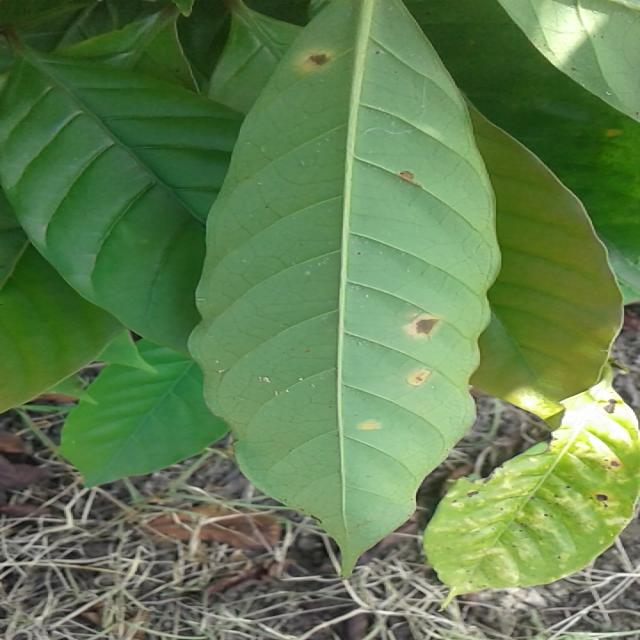Enfermedad-Roya: (187, 0, 501, 564)
